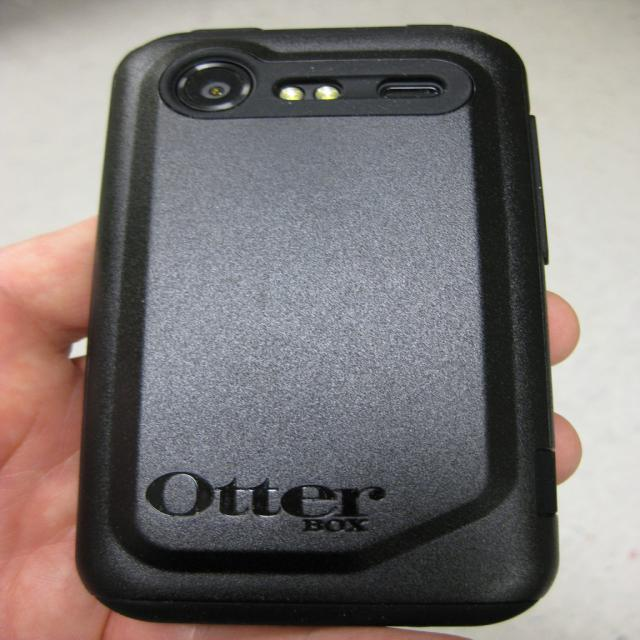Mobile-phone: (60, 29, 575, 632)
